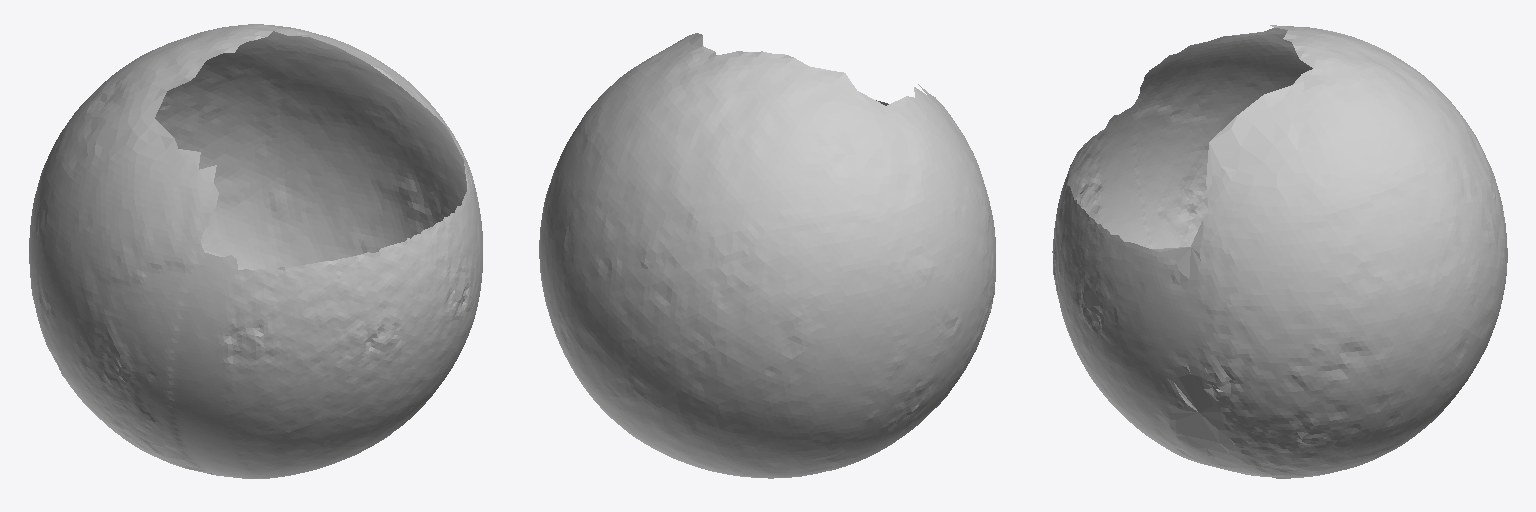
Rendered from Gridtest_0_2_1.000001.obj.
3 views of the same model, side by side, from view 1: azimuth 30°, elevation 25°; view 2: azimuth 150°, elevation 25°; view 3: azimuth 270°, elevation 25° (orthographic).
Size of the model in its own units: 301 by 304 by 298.